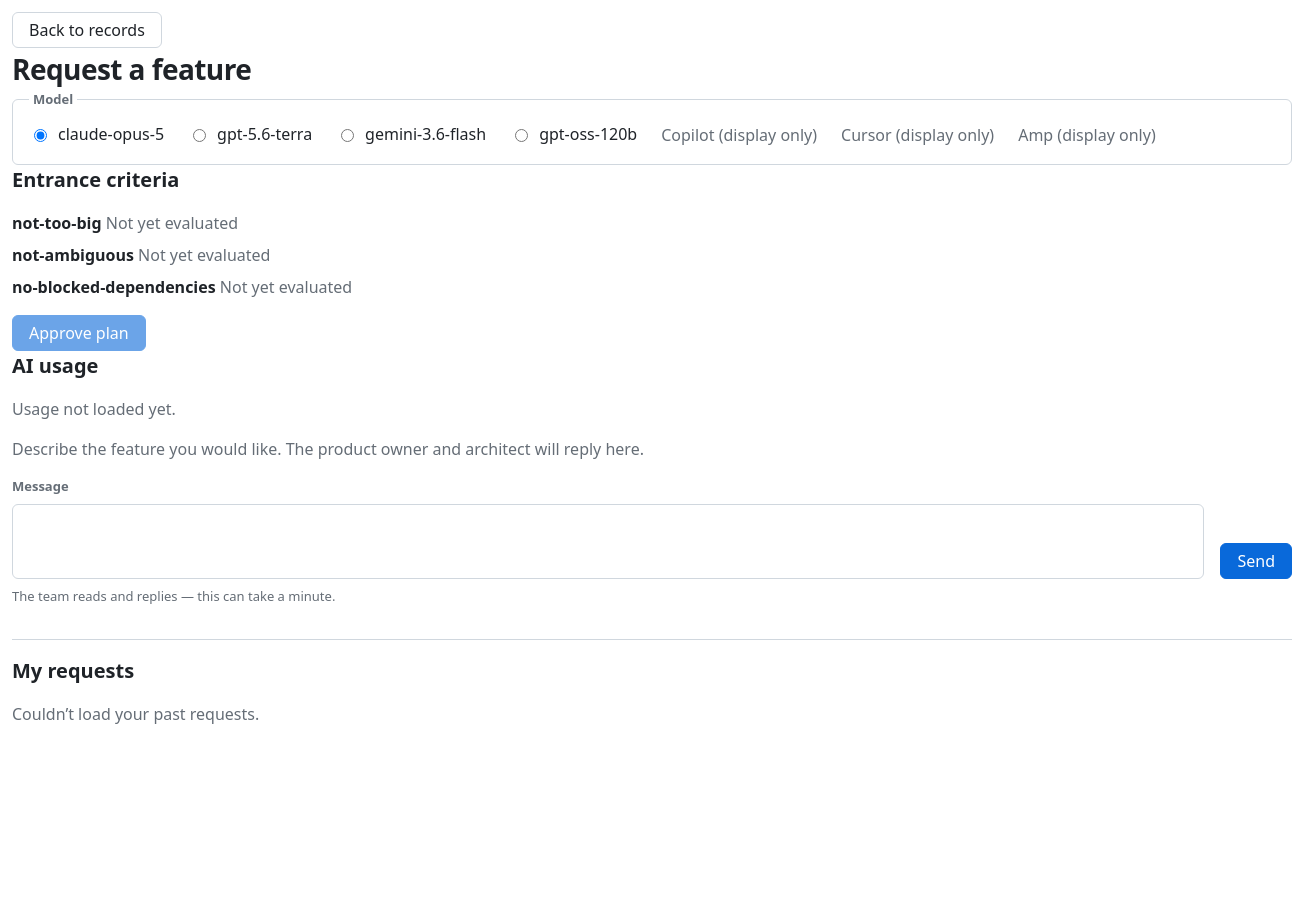
DAN-74 tester — the list itself › degrades quietly on load failure — inline note, no alert, new requests still start
The image size is (1304, 912).
Expected: the text "Couldn’t load your past requests." is shown, [12, 702, 259, 724]
Type "Fresh idea despite the broken list" into the text box labelled "Message" at (608,542), box [12, 504, 1204, 579]
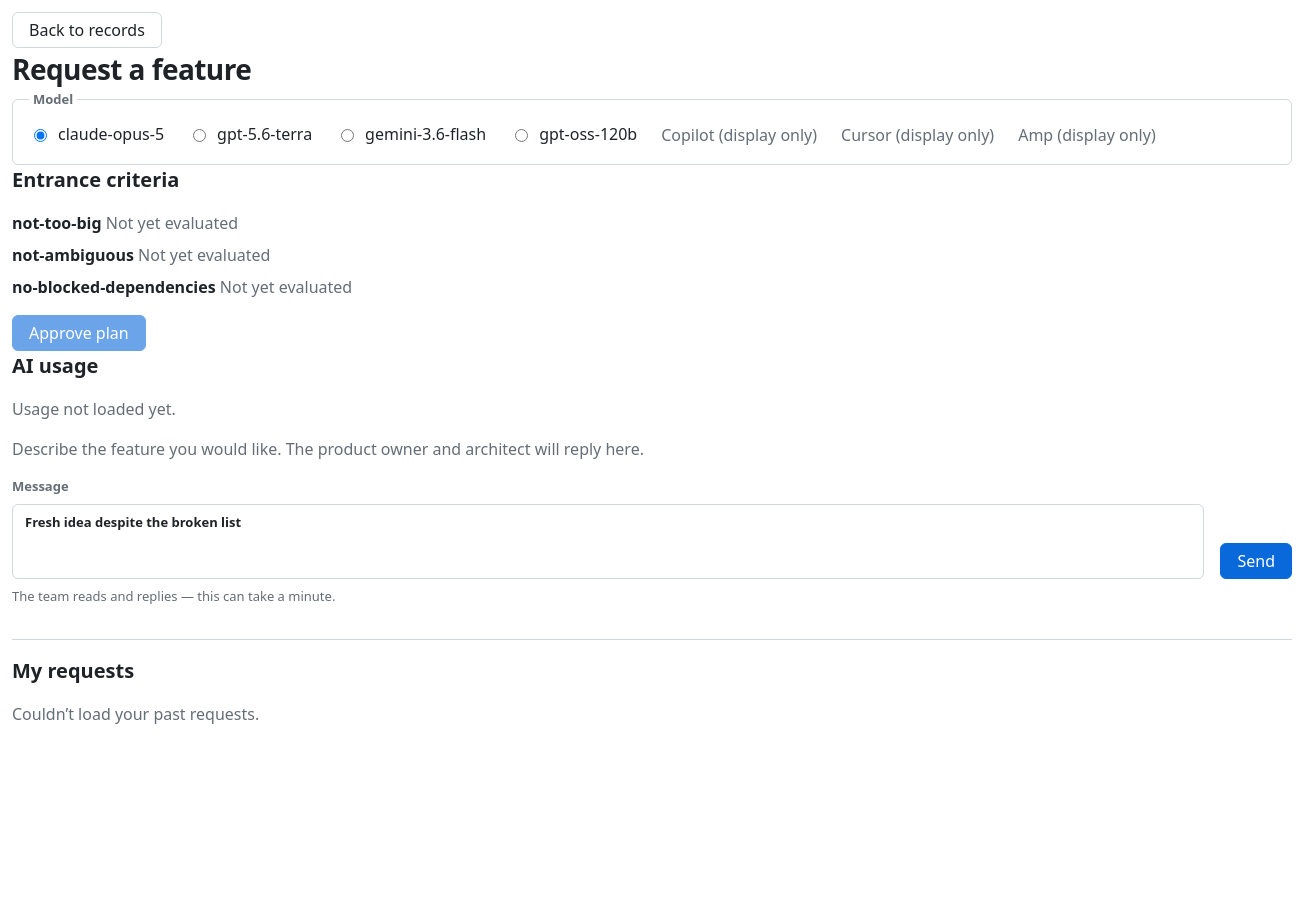
Click the button "Send" at (1256,561), box [1220, 543, 1292, 579]
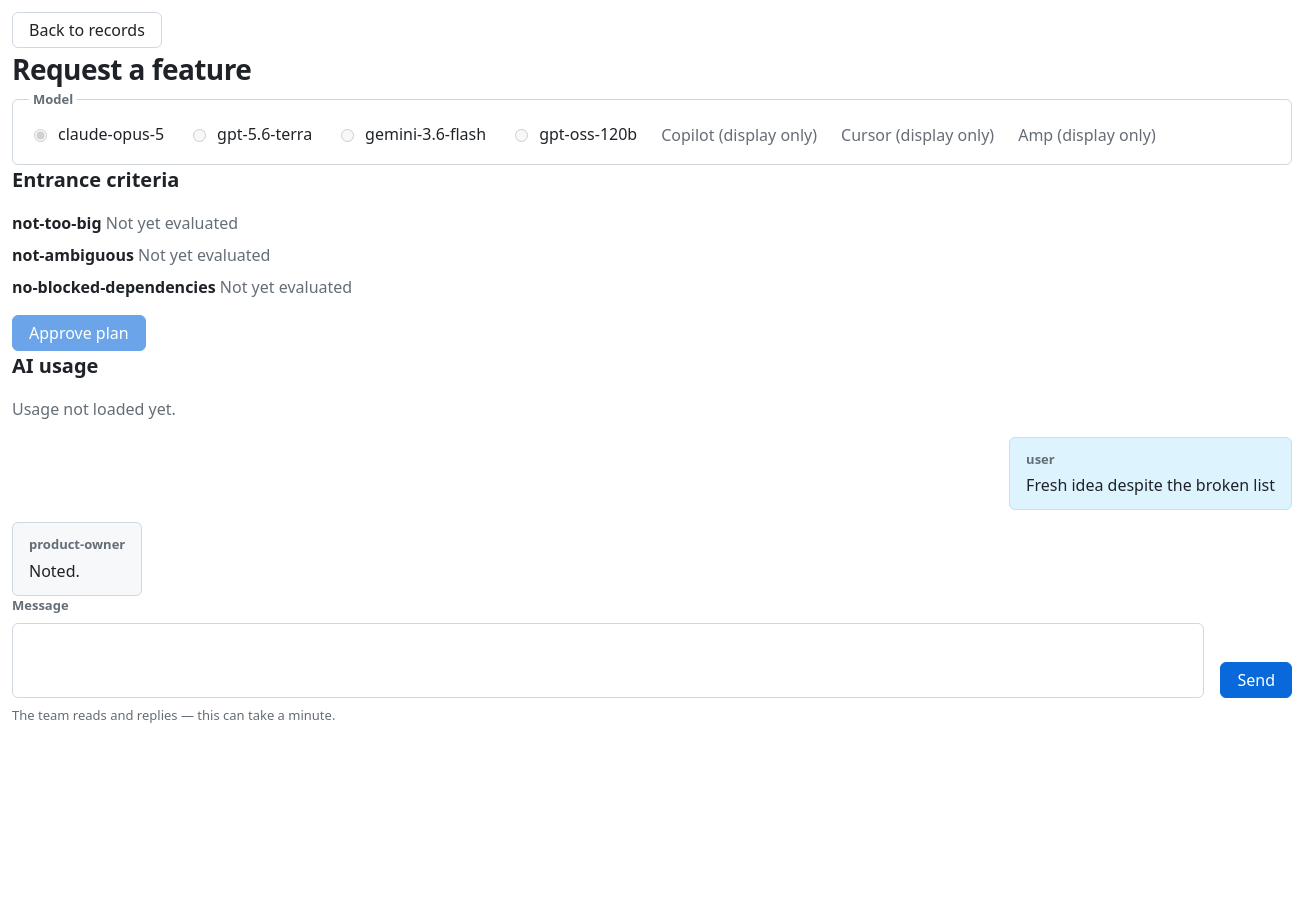
Now the text "Fresh idea despite the broken list" is shown, box [1026, 473, 1275, 497]
